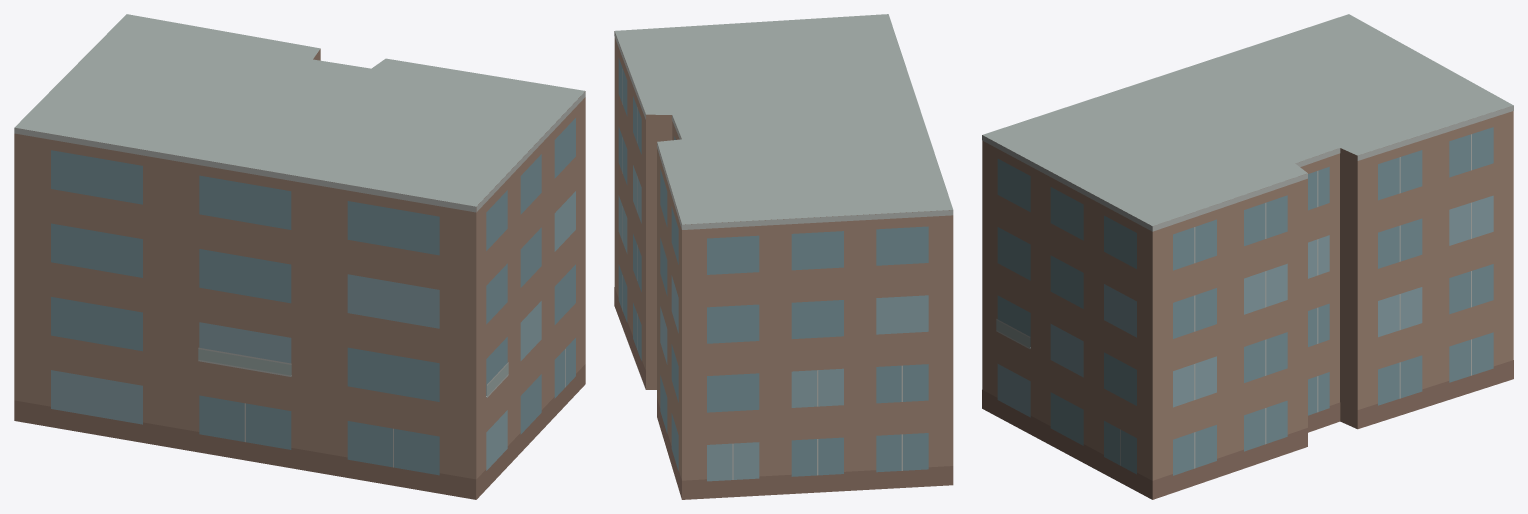
The model's file is survey-upis-32906441.glb.
3 renders of one model, left to right at view 1: azimuth 30°, elevation 25°; view 2: azimuth 150°, elevation 25°; view 3: azimuth 270°, elevation 25°, orthographic. The views are drawn at different scales.
Parts seen in each view (by area): view 1: survey-upis-32906441.tmp; view 2: survey-upis-32906441.tmp; view 3: survey-upis-32906441.tmp.
Boxes of the visible parts, x1,y1,x2,y2 form: survey-upis-32906441.tmp: [14, 14, 585, 499]; survey-upis-32906441.tmp: [614, 14, 953, 499]; survey-upis-32906441.tmp: [982, 14, 1513, 499].
Size of the model in its own units: 20.3 by 12.2 by 21.49.
